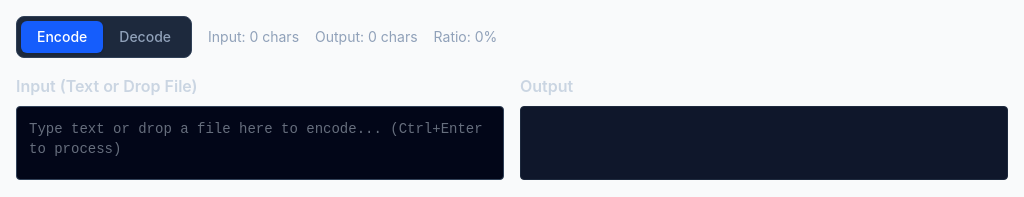
Test case: Base64 Encoder › should decode base64 to text
# Switch to decode mode
Click the button "Decode" at (145,37), box [103,21,187,53]
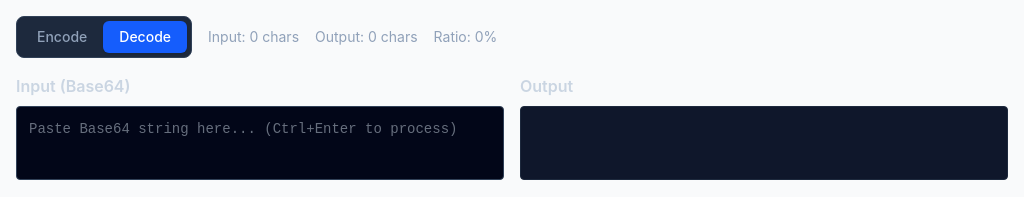
Type "SGVsbG8gV29ybGQ=" into the text box with placeholder "Paste Base64 string here... (Ctrl+Enter to process)" at (260,143), box [16,106,504,180]
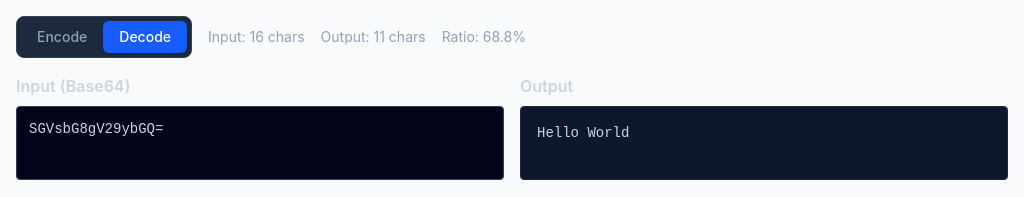
Expected: the 2nd text box holds "Hello World", [537,123,991,163]
